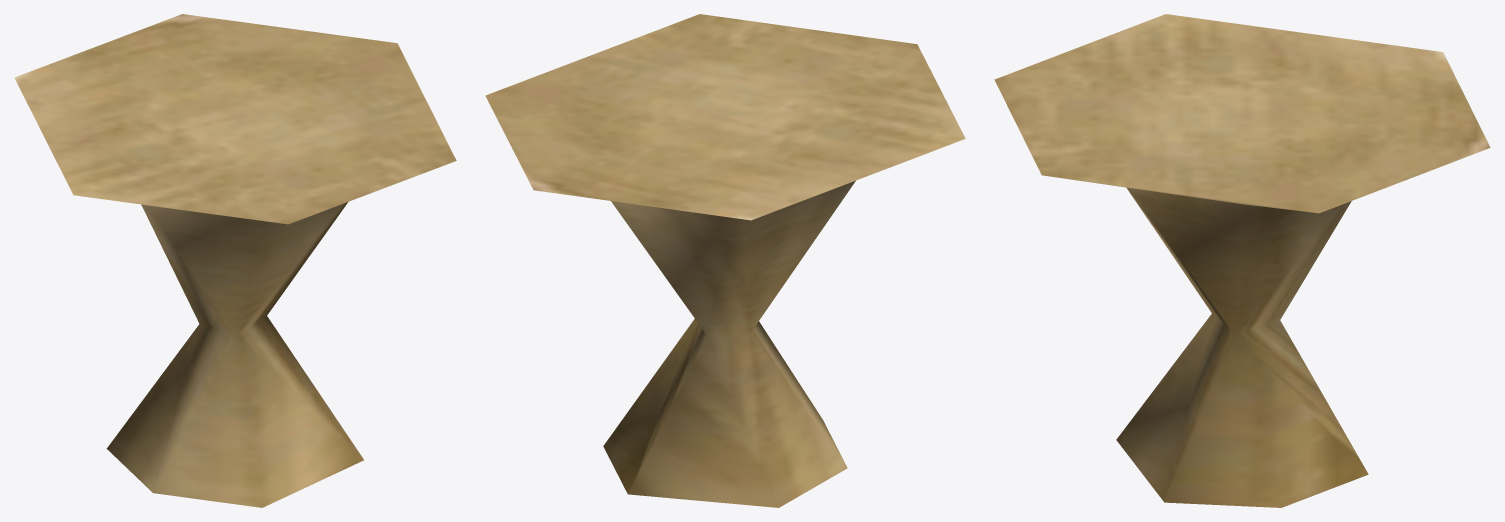
The model's file is frn_tato_vase_s01_l2.fbx.
3 renders of one model, left to right at view 1: azimuth 30°, elevation 25°; view 2: azimuth 150°, elevation 25°; view 3: azimuth 270°, elevation 25°, orthographic. The views are drawn at different scales.
Visible parts, largest first — view 1: mesh_node; view 2: mesh_node; view 3: mesh_node.
Part boxes in pixels (box(x1,y1,x2,y2)): mesh_node: box(14, 14, 456, 507); mesh_node: box(485, 14, 965, 507); mesh_node: box(994, 14, 1490, 507).
Bounding box in the file's own units: 0.5762 × 0.4627 × 0.6058.
Materials: 1 (1 with a texture image).
